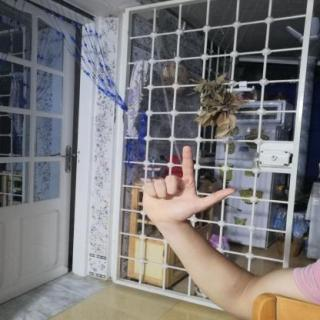LAAM: (132, 139, 241, 229)
